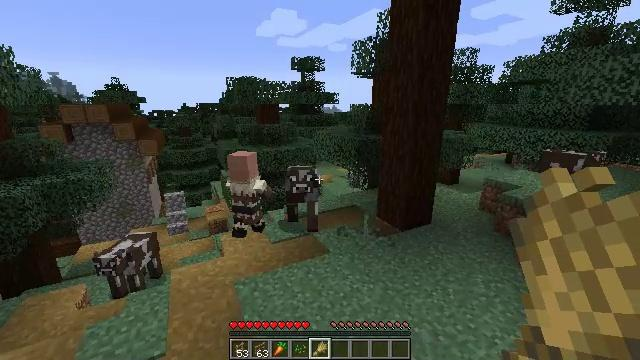cow: (95, 231, 163, 298), (540, 147, 607, 185), (284, 166, 320, 233)
